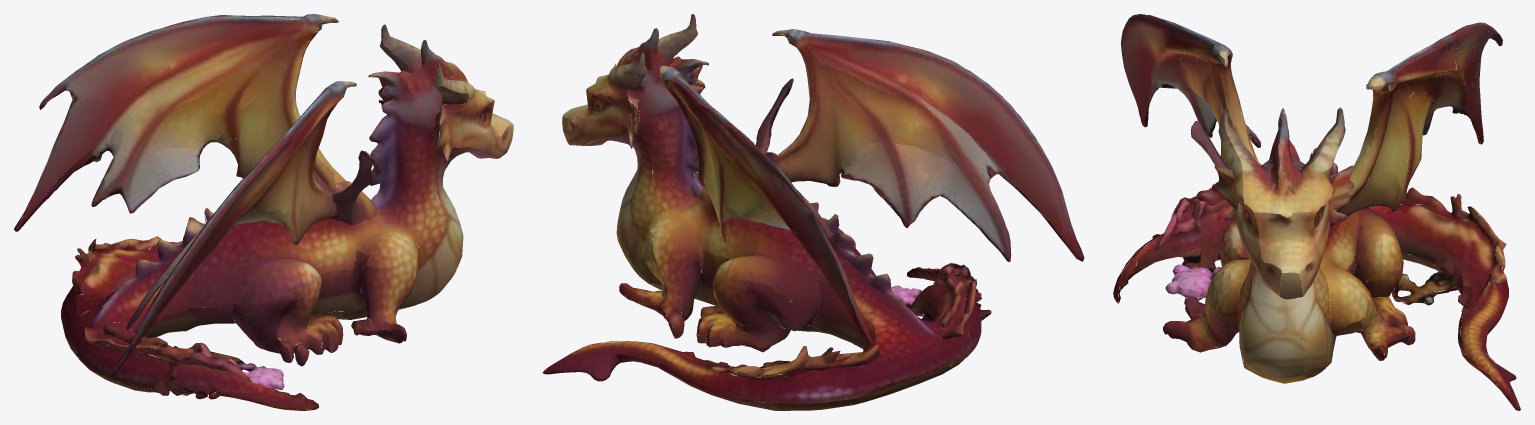
The model's file is dragon.glb.
The picture shows the model from 3 angles, left to right: view 1: azimuth 30°, elevation 25°; view 2: azimuth 150°, elevation 25°; view 3: azimuth 270°, elevation 25°; orthographic projection. The views are drawn at different scales.
Parts seen in each view (by area): view 1: geometry_0; view 2: geometry_0; view 3: geometry_0.
Part boxes in pixels (x1,y1,x2,y2): geometry_0: [14, 14, 513, 410]; geometry_0: [542, 14, 1084, 410]; geometry_0: [1113, 14, 1520, 410].
Bounding box in the file's own units: 0.9336 × 0.5413 × 0.6621.
1 material, 1 textured.
